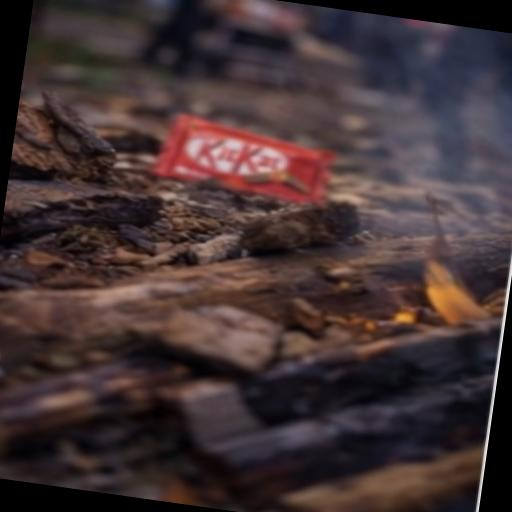kitkat: (90, 40, 406, 256)
